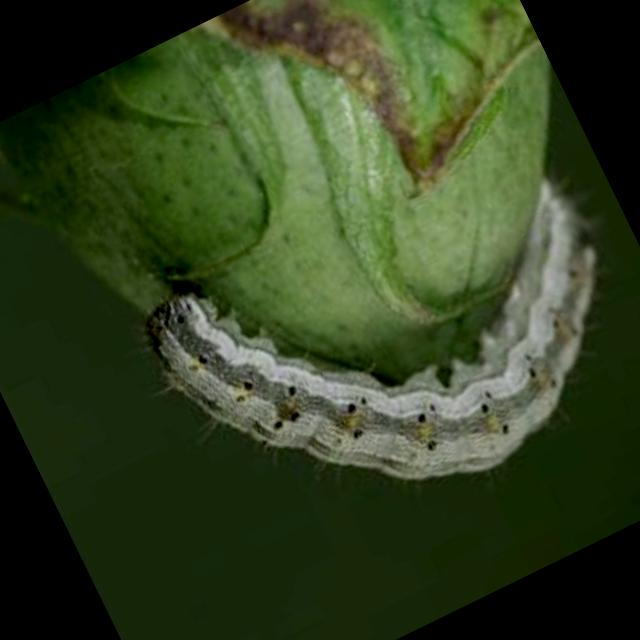Cotton bollworm: (112, 92, 640, 596)
